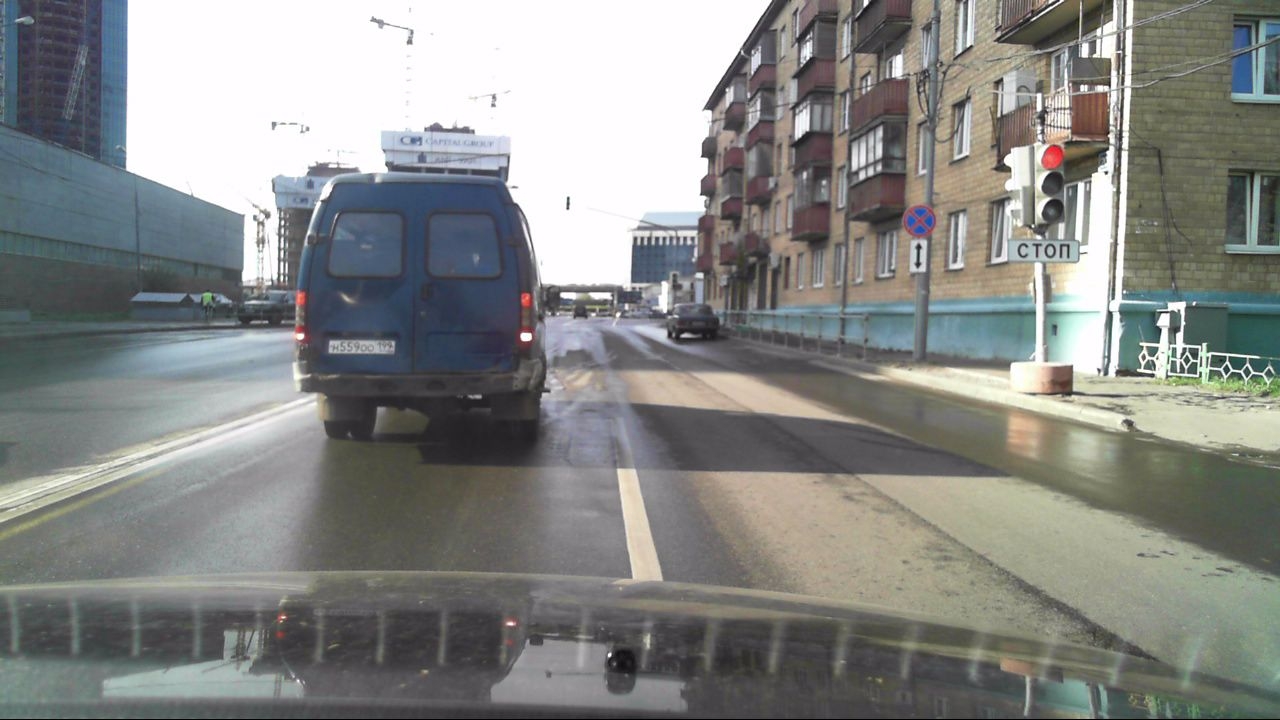No Parking: (901, 204, 936, 239)
